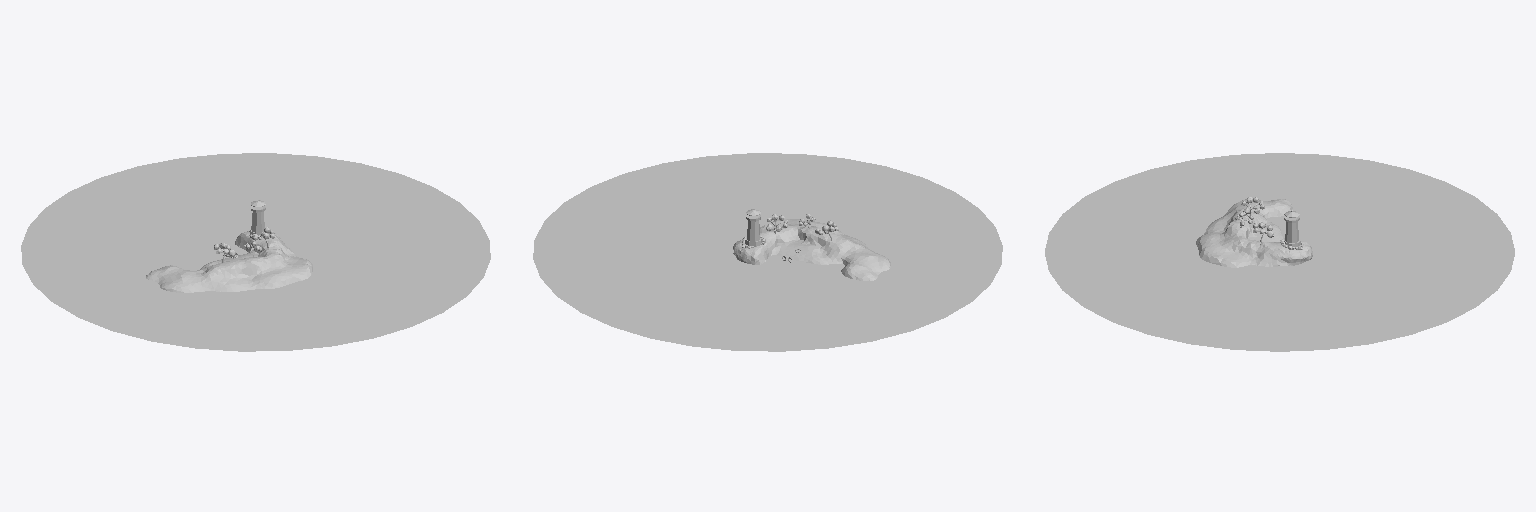
File: island.obj
3 renders of one model, left to right at view 1: azimuth 30°, elevation 25°; view 2: azimuth 150°, elevation 25°; view 3: azimuth 270°, elevation 25°, orthographic.
Parts seen in each view (by area): view 1: Water_Circle, Island_Icosphere.002; view 2: Water_Circle, Island_Icosphere.002; view 3: Water_Circle, Island_Icosphere.002.
Boxes of the visible parts, x1=… form: Water_Circle: x1=21, y1=153, x2=490, y2=351; Island_Icosphere.002: x1=146, y1=231, x2=312, y2=292; Water_Circle: x1=533, y1=153, x2=1002, y2=351; Island_Icosphere.002: x1=733, y1=219, x2=890, y2=280; Water_Circle: x1=1045, y1=153, x2=1514, y2=351; Island_Icosphere.002: x1=1196, y1=199, x2=1312, y2=267.
Size of the model in its own units: 118 by 27.47 by 118.